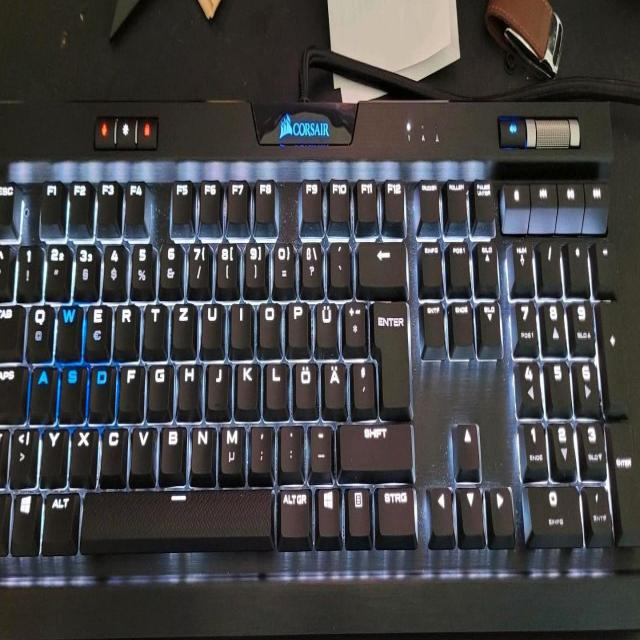0: (272, 236, 294, 289)
1: (14, 241, 41, 298)
2: (44, 239, 69, 298)
3: (72, 238, 99, 298)
4: (101, 238, 126, 297)
5: (129, 238, 154, 297)
6: (158, 238, 183, 291)
7: (187, 239, 209, 289)
8: (215, 237, 238, 291)
9: (244, 237, 266, 288)
a: (29, 360, 55, 420)
accent: (328, 236, 349, 285)
ae: (322, 356, 345, 408)
alt-left: (40, 486, 78, 550)
altgr-right: (278, 482, 311, 538)
b: (159, 421, 185, 474)
c: (99, 423, 126, 478)
caret: (0, 240, 11, 292)
comma: (250, 420, 272, 471)
d: (88, 360, 114, 417)
del: (356, 237, 405, 287)
e: (84, 299, 110, 356)
enter: (370, 295, 410, 409)
f: (118, 359, 143, 416)
g: (146, 358, 170, 412)
h: (177, 358, 200, 411)
hash: (351, 355, 373, 407)
i: (229, 298, 251, 347)
j: (207, 357, 229, 409)
k: (235, 356, 258, 409)
keyboard: (0, 160, 640, 581)
l: (264, 356, 286, 409)
less: (8, 423, 36, 485)
m: (219, 421, 243, 474)
minus: (308, 420, 331, 472)
n: (190, 420, 214, 474)
o: (257, 298, 281, 348)
oe: (292, 356, 317, 410)
p: (286, 297, 308, 348)
plus: (343, 297, 365, 347)
point: (279, 420, 301, 470)
q: (24, 299, 52, 359)
r: (113, 299, 138, 354)
s: (57, 361, 84, 421)
shift-left: (0, 423, 16, 478)
shift-lock: (0, 358, 25, 417)
shift-right: (338, 418, 412, 469)
space: (77, 486, 275, 546)
ss: (300, 237, 322, 289)
strg-left: (0, 486, 22, 550)
strg-right: (374, 481, 417, 538)
t: (142, 298, 166, 352)
tab: (0, 299, 24, 354)
u: (200, 298, 223, 350)
ue: (314, 297, 337, 350)
v: (130, 422, 154, 475)
w: (54, 300, 81, 359)
x: (68, 423, 96, 483)
y: (38, 424, 66, 484)
z: (171, 298, 194, 349)
